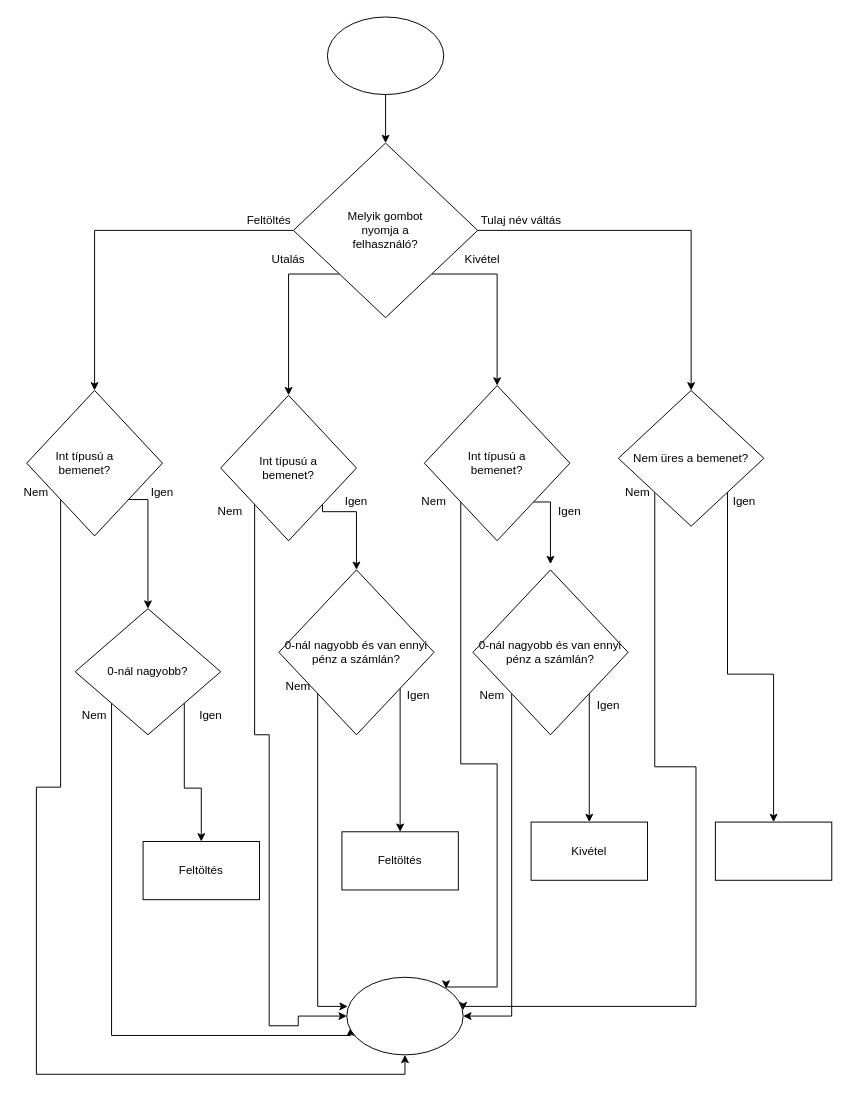
Image size: 849x1099. Some labels were removed from this diagram. The shapes that lost their labels are listed below. From the top down, each one's centre as x and y in pixels, then its label:
point (385, 55): Run
point (773, 850): Név váltás
point (404, 1015): Futás vége
